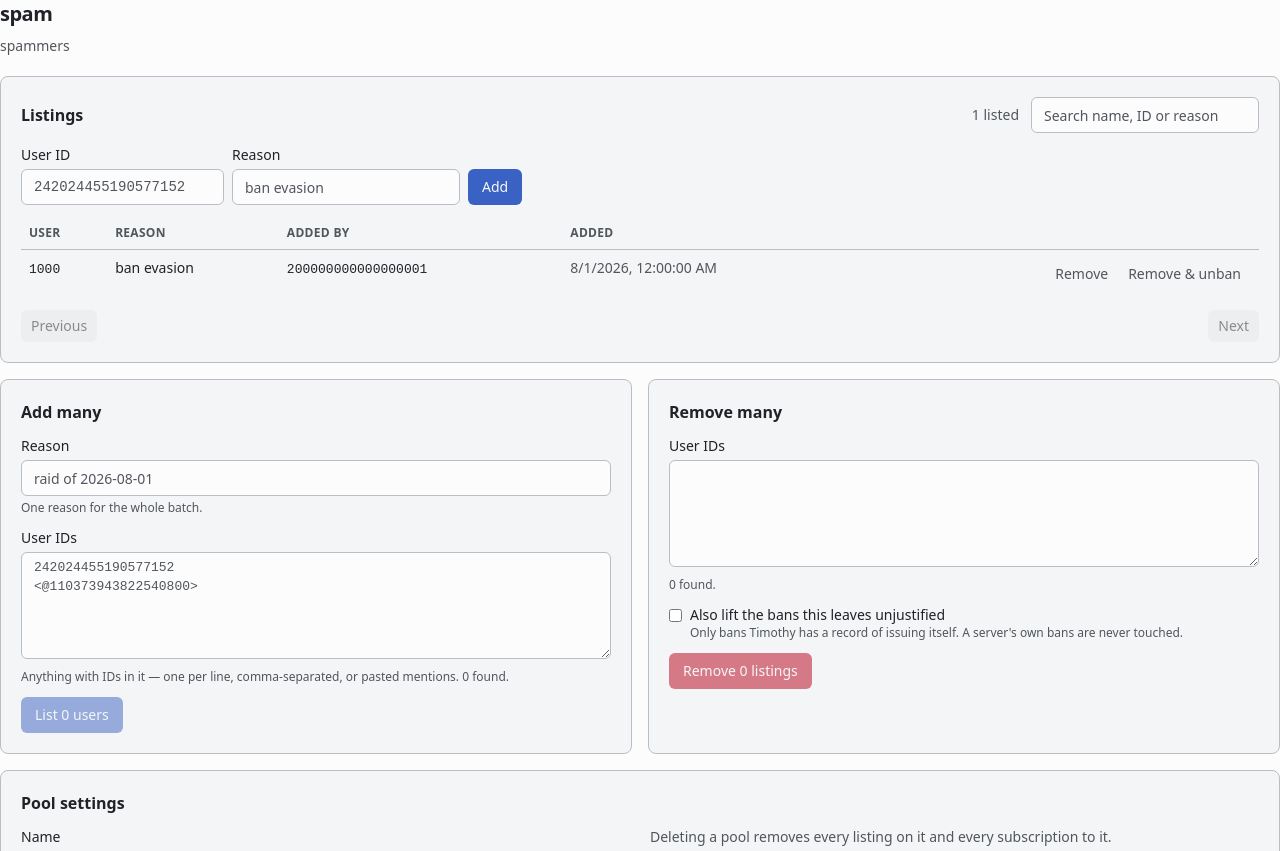
removing a listing › does nothing at all if the dialog is cancelled
Expected: the text "1000" is shown, [29,262,60,277]
Click the button "Remove".
click(1082, 274)  # box [1045,258,1118,290]
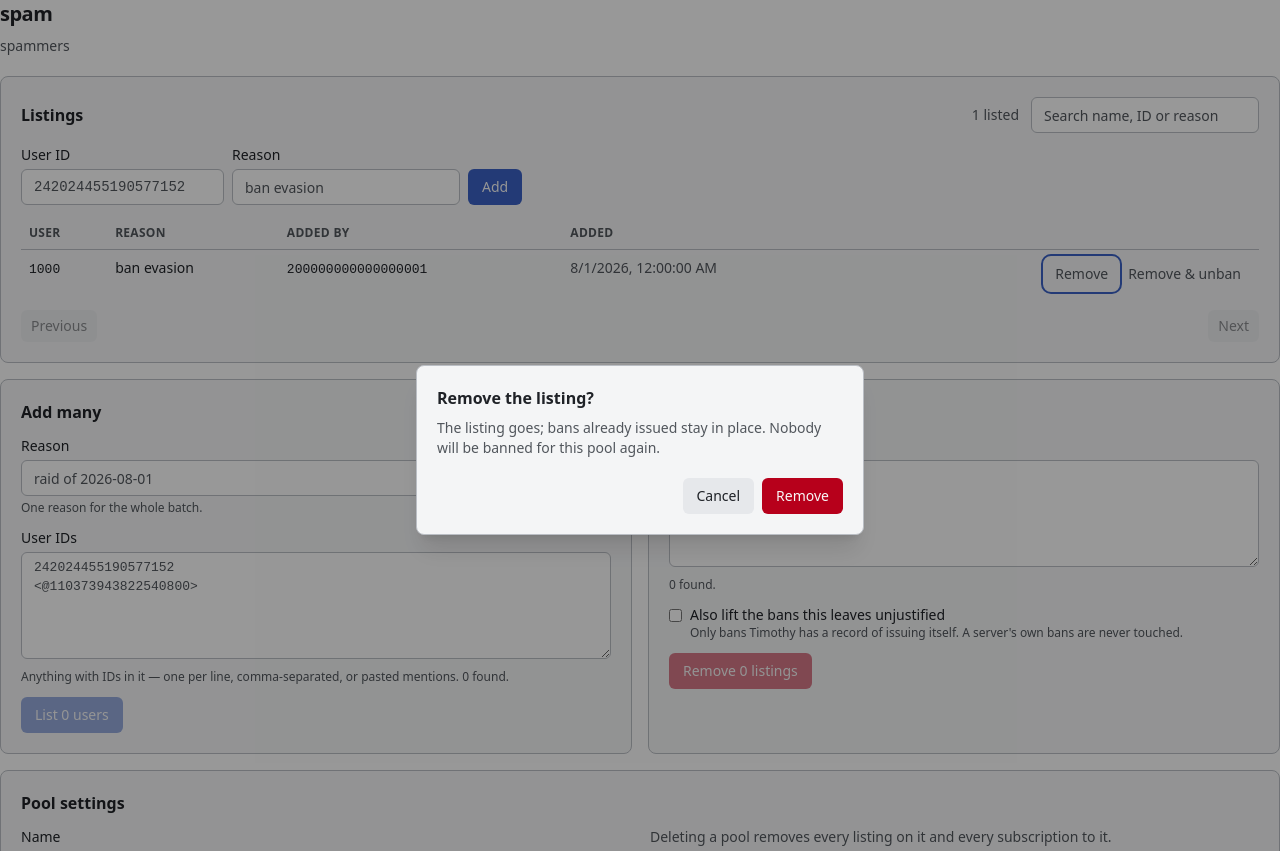
Click the button "Cancel".
click(718, 496)  # box [682,478,754,514]
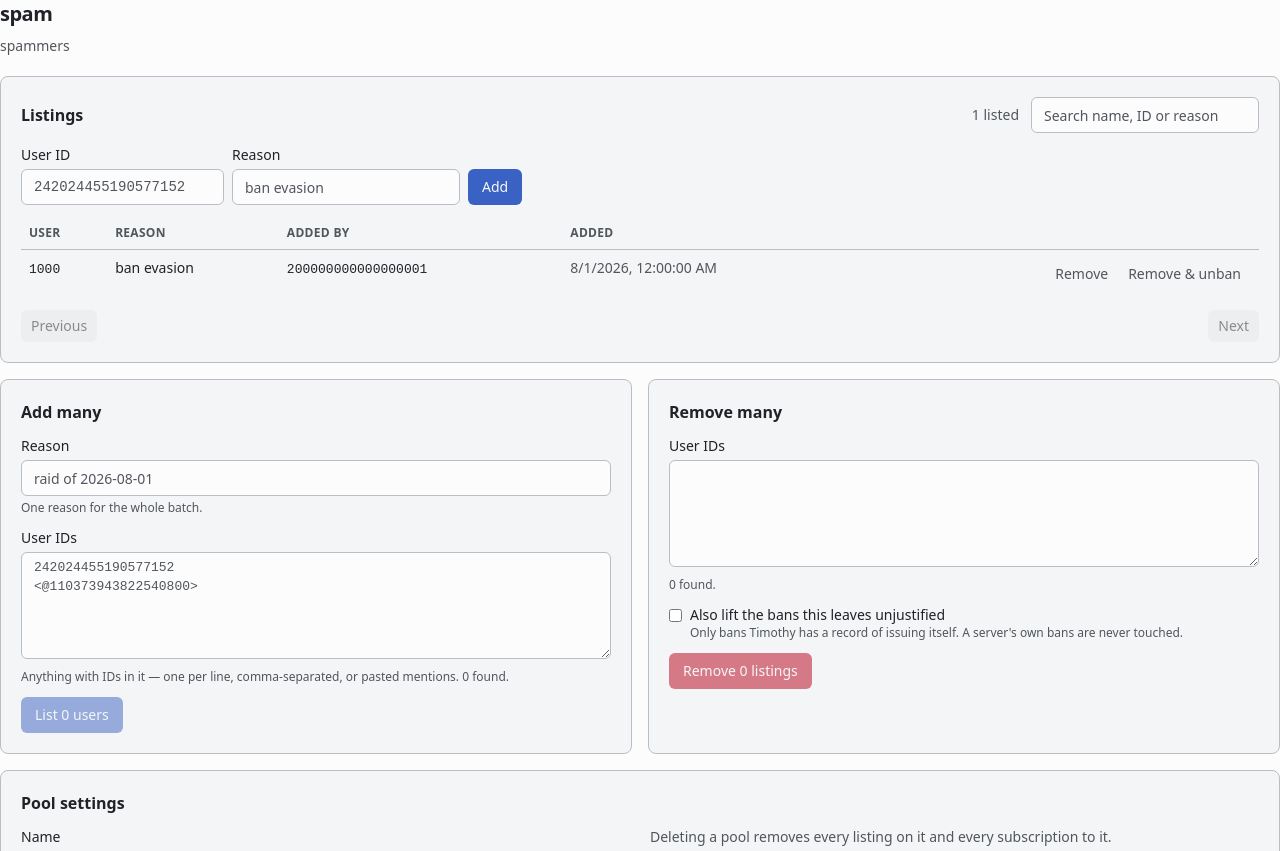
Now the dialog is gone
